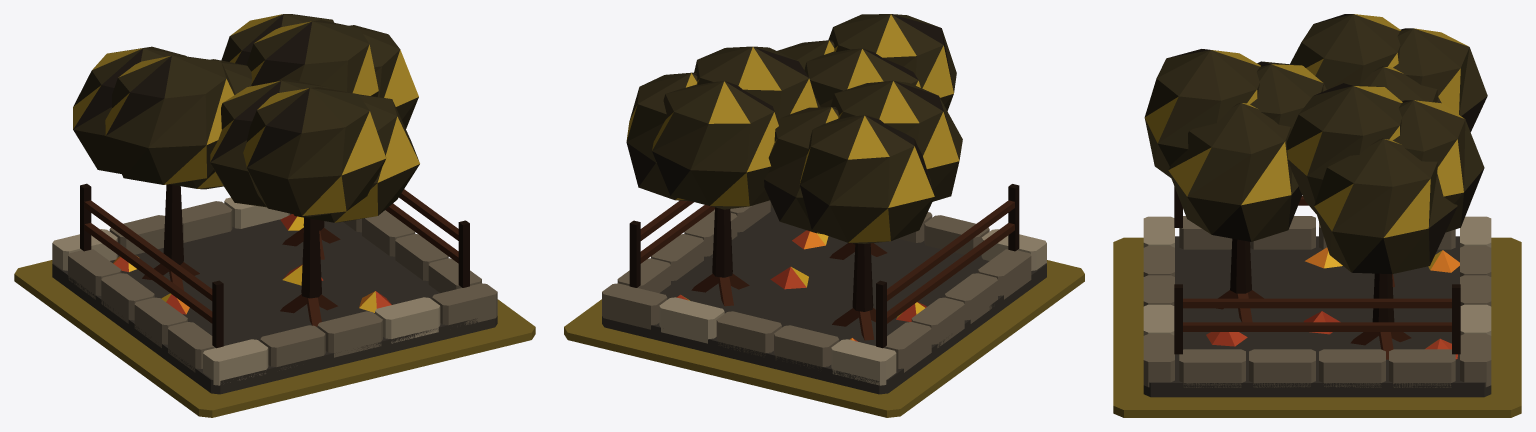
File: grove_t3.glb
3 views of the same model, side by side, from view 1: azimuth 30°, elevation 25°; view 2: azimuth 150°, elevation 25°; view 3: azimuth 270°, elevation 25° (orthographic). The views are drawn at different scales.
Visible parts, largest first — view 1: MMR | grove | T03 Architecture.001, MMR | grove | Tier 03 Ground.001, MMR | grove | T03 Autumn Dressing.001; view 2: MMR | grove | T03 Architecture.001, MMR | grove | Tier 03 Ground.001, MMR | grove | T03 Autumn Dressing.001; view 3: MMR | grove | T03 Architecture.001, MMR | grove | Tier 03 Ground.001, MMR | grove | T03 Autumn Dressing.001.
Part boxes in pixels (x1,y1,x2,y2): MMR | grove | T03 Architecture.001: (52, 14, 497, 394); MMR | grove | Tier 03 Ground.001: (14, 260, 535, 417); MMR | grove | T03 Autumn Dressing.001: (113, 214, 391, 314); MMR | grove | T03 Architecture.001: (602, 14, 1046, 394); MMR | grove | Tier 03 Ground.001: (564, 260, 1084, 417); MMR | grove | T03 Autumn Dressing.001: (676, 230, 926, 341); MMR | grove | T03 Architecture.001: (1143, 14, 1491, 397); MMR | grove | Tier 03 Ground.001: (1113, 237, 1521, 417); MMR | grove | T03 Autumn Dressing.001: (1206, 247, 1459, 359).
Size of the model in its own units: 2.35 by 1.74 by 2.35.
1 material, 1 textured.
